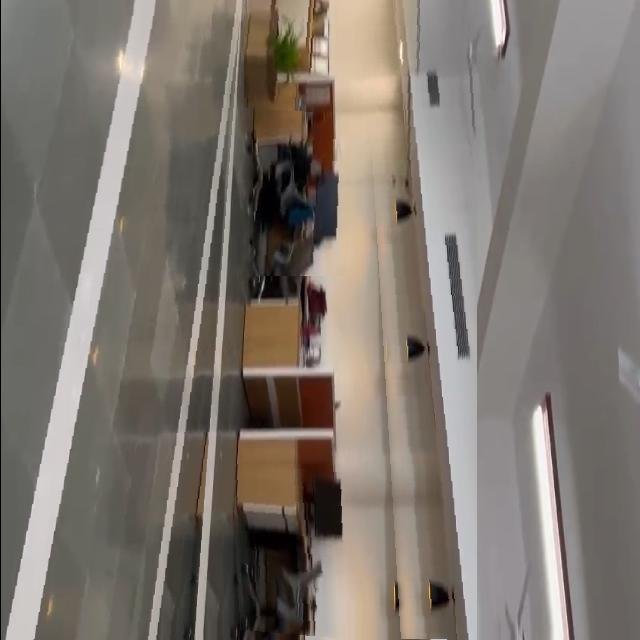floor: (0, 6, 240, 640)
furniture: (229, 464, 346, 640), (252, 126, 352, 276), (243, 1, 320, 112)
wall: (362, 0, 476, 640)
